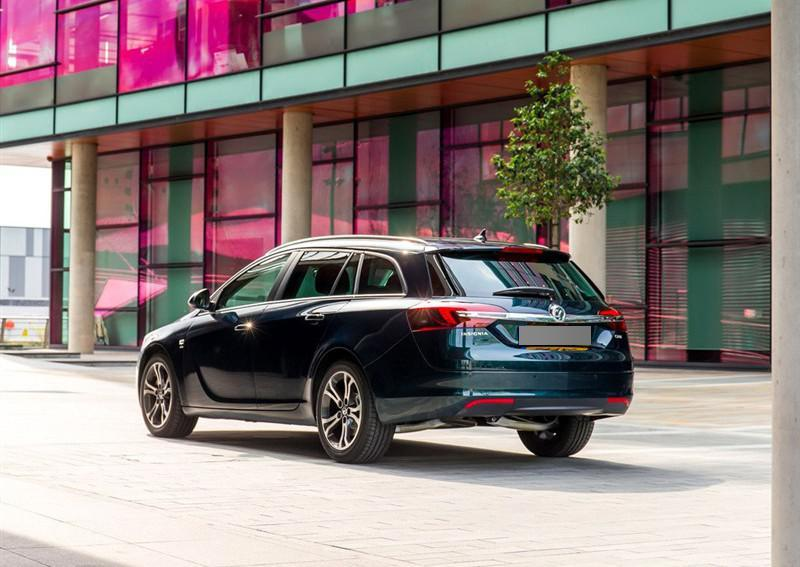Wagon: (137, 233, 634, 466)
